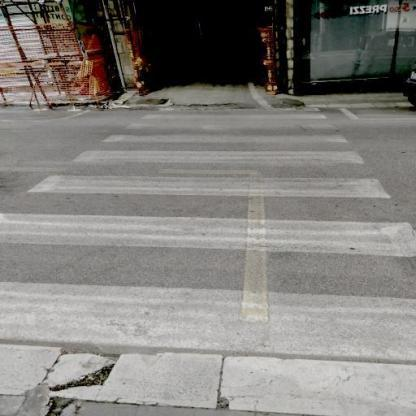crosswalk: (0, 211, 414, 348), (15, 146, 395, 202)
